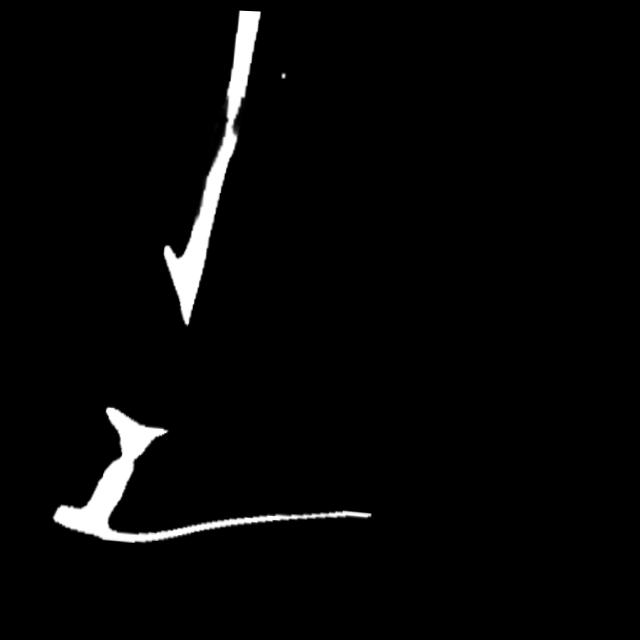sl: (215, 85, 249, 154)
